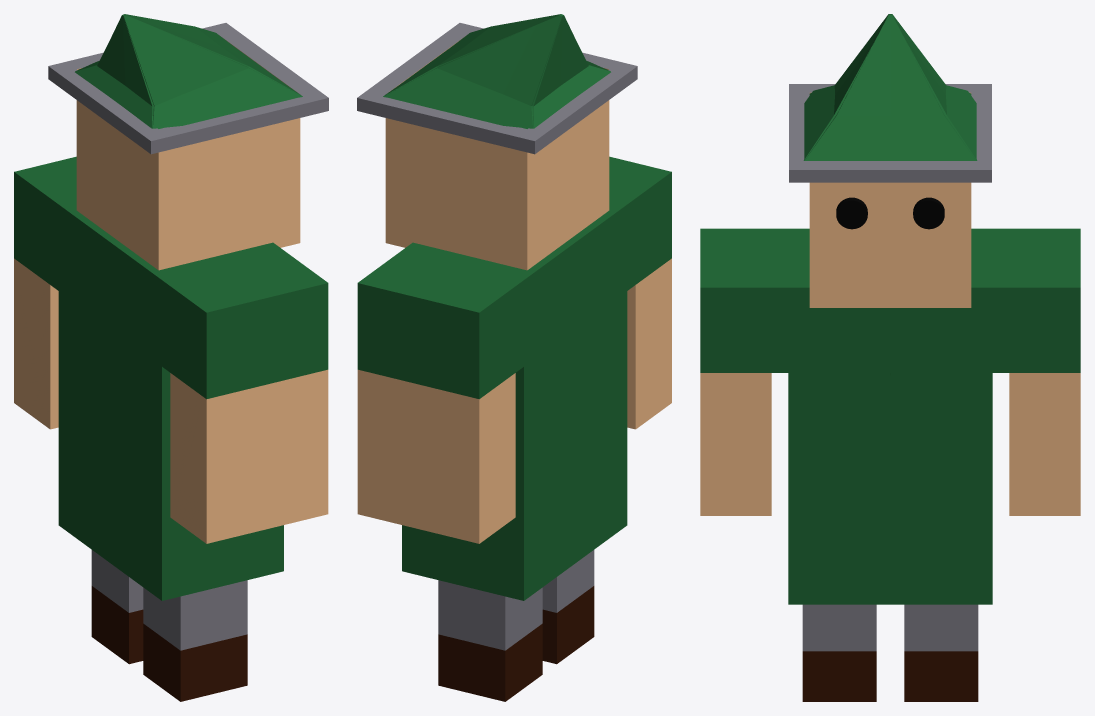
File: player.fbx
3 views of the same model, side by side, from view 1: azimuth 30°, elevation 25°; view 2: azimuth 150°, elevation 25°; view 3: azimuth 270°, elevation 25° (orthographic).
Parts seen in each view (by area): view 1: Cube; view 2: Cube; view 3: Cube.
Boxes of the visible parts, x1=… form: Cube: x1=14, y1=14, x2=328, y2=701; Cube: x1=357, y1=14, x2=671, y2=701; Cube: x1=700, y1=14, x2=1080, y2=701.
Bounding box in the file's own units: 125 × 442 × 235.
